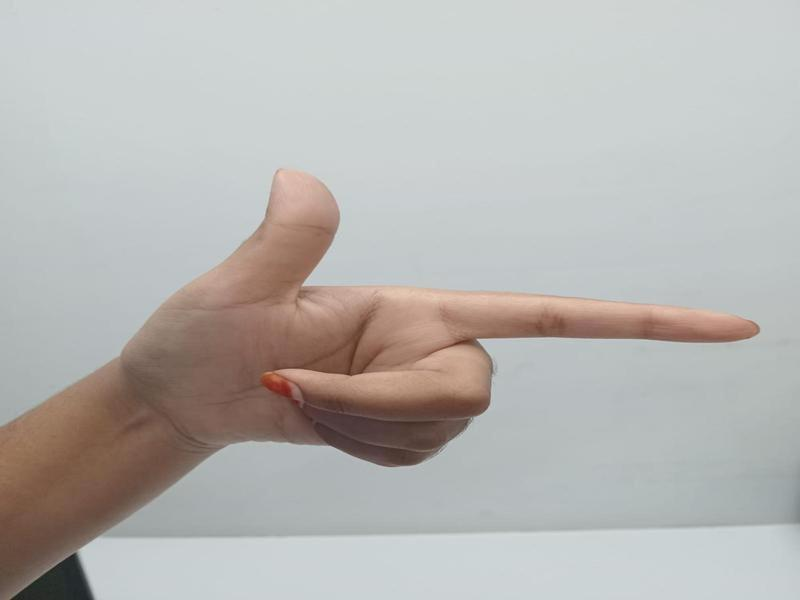FORWARD: (1, 151, 767, 600)
